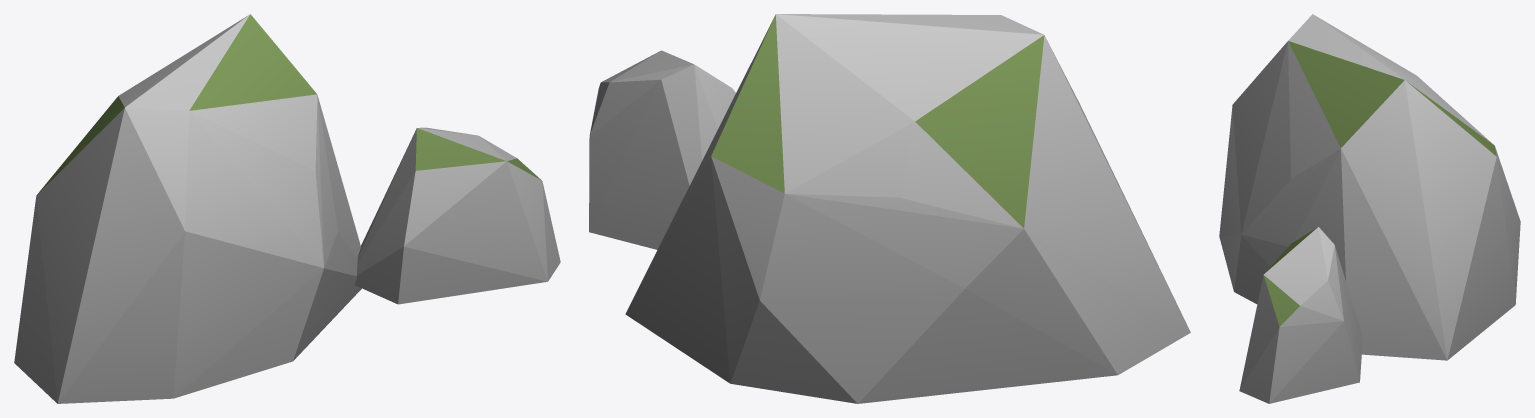
File: rk_boulder_3.glb
3 renders of one model, left to right at view 1: azimuth 30°, elevation 25°; view 2: azimuth 150°, elevation 25°; view 3: azimuth 270°, elevation 25°, orthographic. The views are drawn at different scales.
Parts seen in each view (by area): view 1: rk_boulder_3; view 2: rk_boulder_3; view 3: rk_boulder_3.
Boxes of the visible parts, box(x1,y1,x2,y2) form: rk_boulder_3: box(14, 14, 560, 403); rk_boulder_3: box(589, 14, 1190, 403); rk_boulder_3: box(1219, 14, 1520, 403).
Size of the model in its own units: 28.19 by 14.02 by 16.28.
